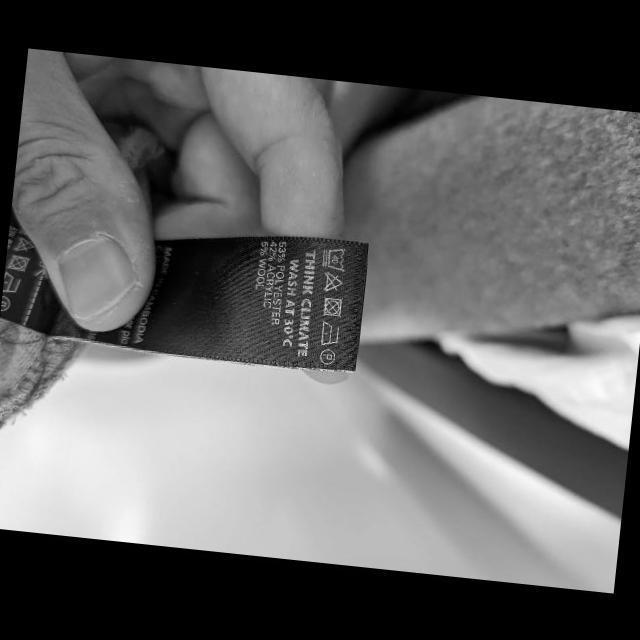40C: (320, 244, 347, 272)
DN_bleach: (320, 270, 344, 294), (12, 234, 37, 254)
DN_tumble_dry: (320, 294, 343, 318), (6, 252, 32, 272)
iron_low: (316, 318, 341, 348), (1, 269, 22, 294)
normal_dry_clean_solvents: (316, 346, 336, 366), (0, 294, 11, 312)
